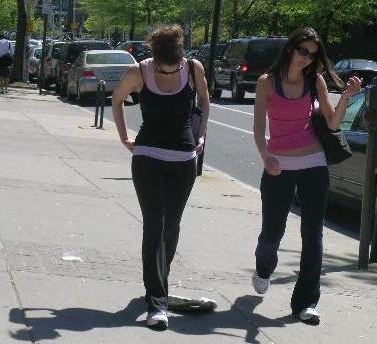pedestrian: (253, 28, 363, 325), (111, 26, 209, 329)
